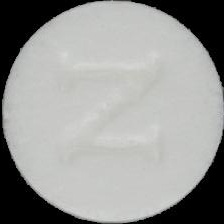21695-450: (0, 0, 224, 224)
